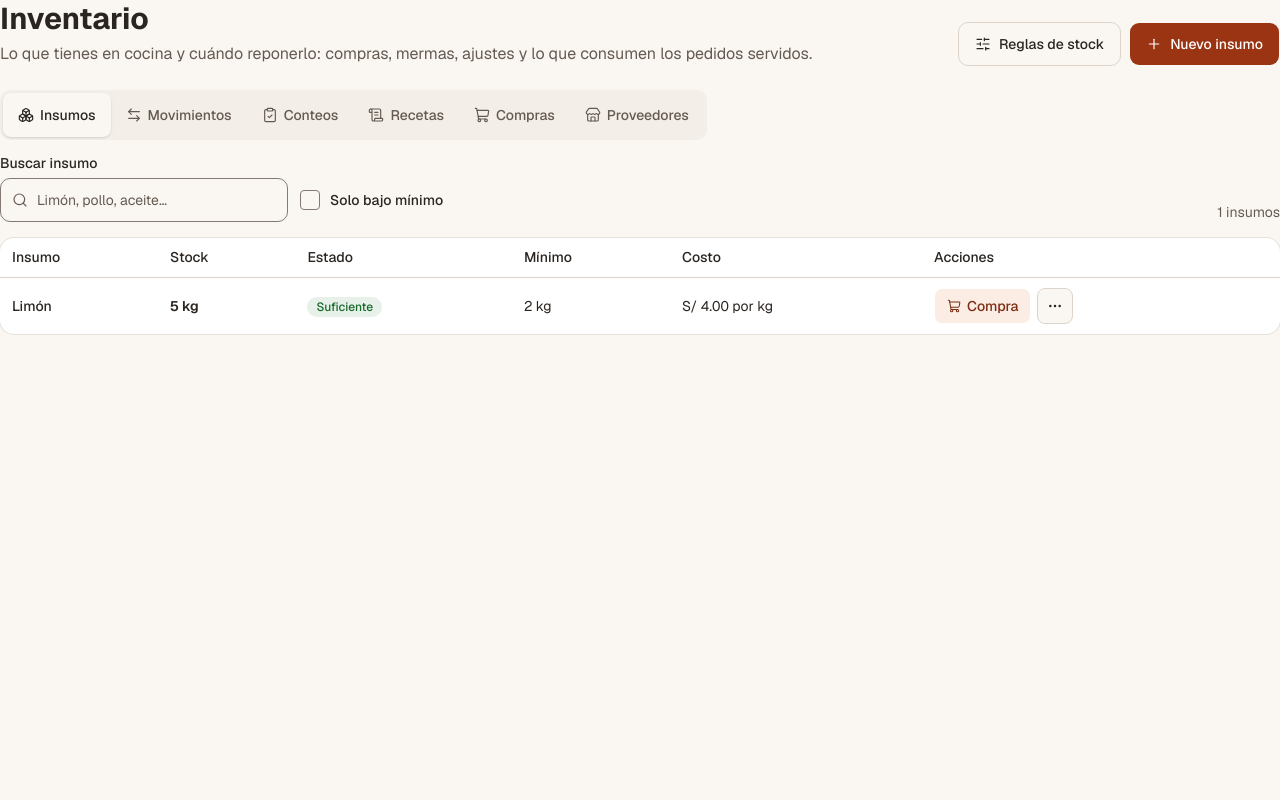
Test: compras, mermas y ajustes › una compra por kilo muestra el total, cómo queda el stock y lo envía en gramos
Click the button with aria-label "Compra de Limón".
click(983, 306)  # box [934,288,1031,324]
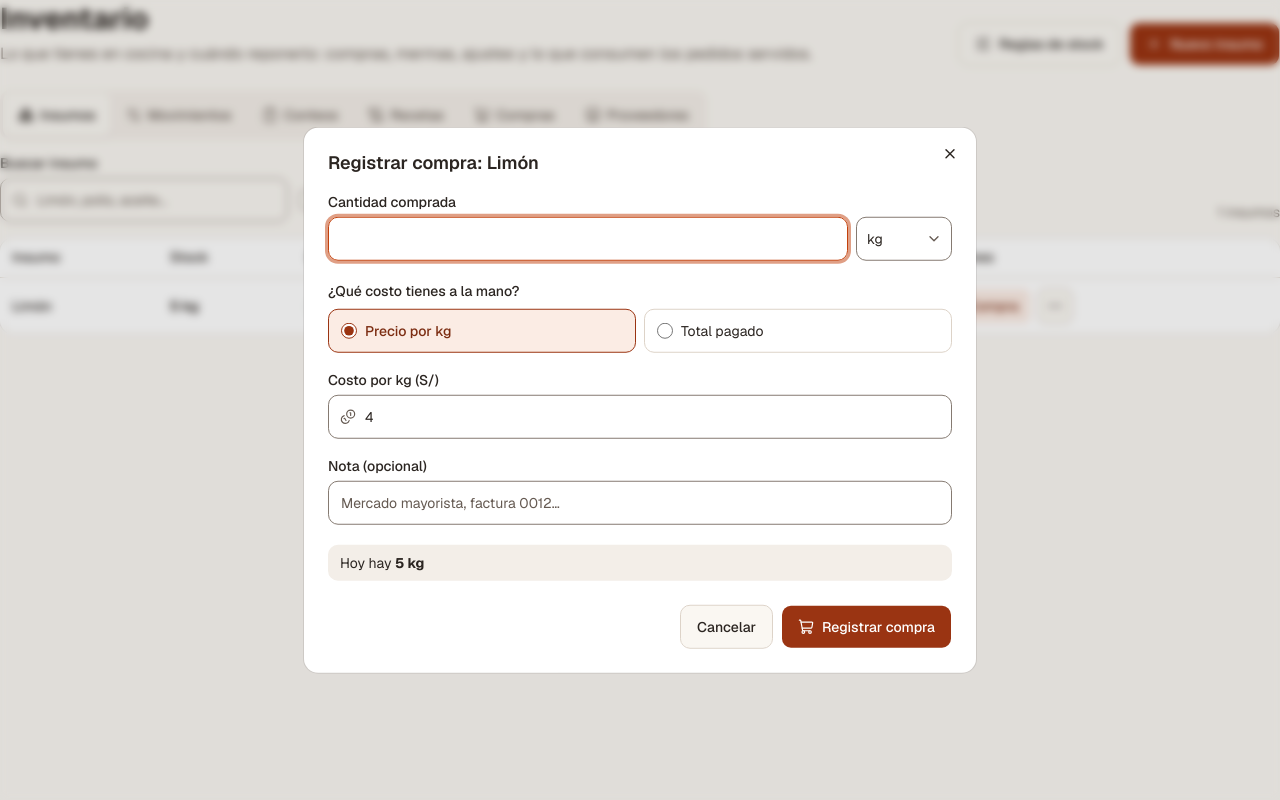
expect the field labelled "Costo por kg (S/)" holds "4": met, box [328,394,952,438]
Type "5" into the field labelled "Cantidad comprada".
click(588, 238); type("5")  # box [328,216,848,260]
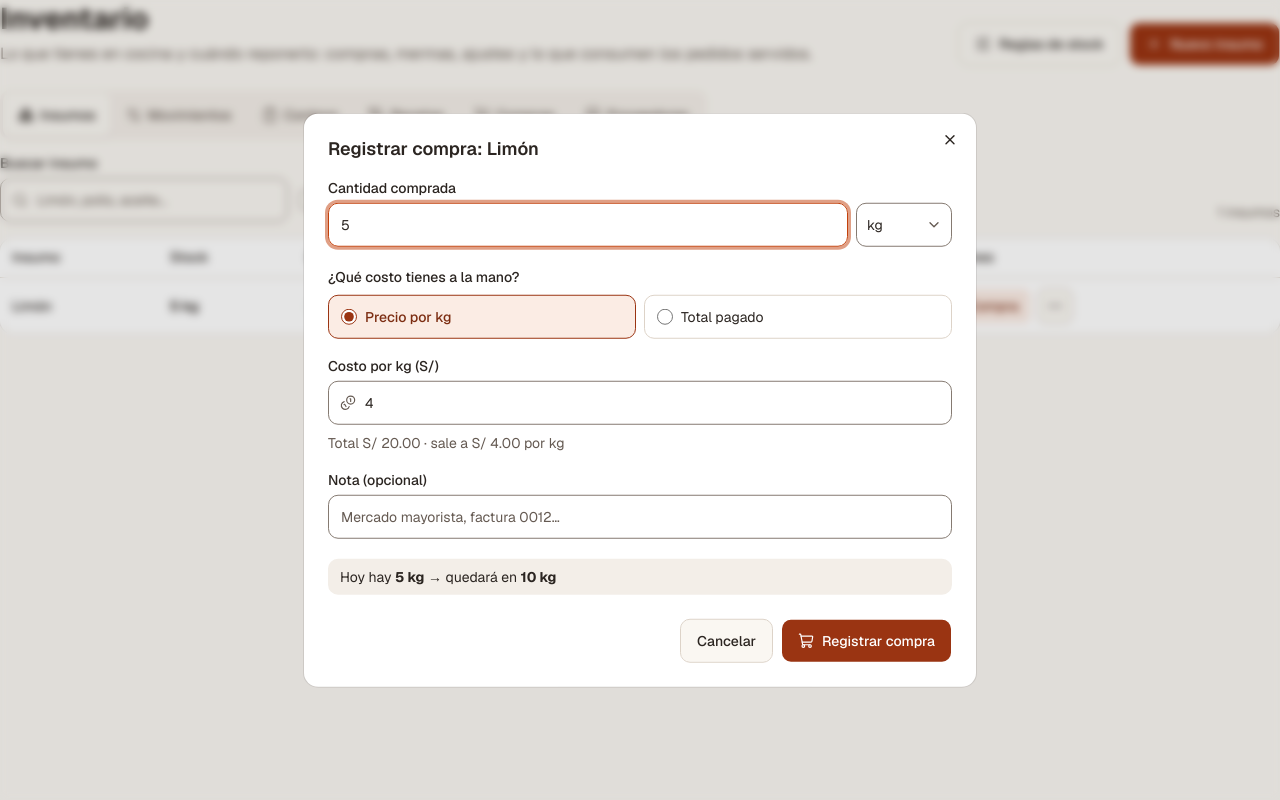
expect the text "Total S/ 20.00 · sale a S/ 4.00 por kg" is shown: met, box [328,433,565,451]
expect the element with test id "stock-preview" reads "Hoy hay 5 kg → quedará en 10 kg": met, box [328,558,952,594]
Click the button "Registrar compra".
click(866, 640)  # box [781,618,952,662]
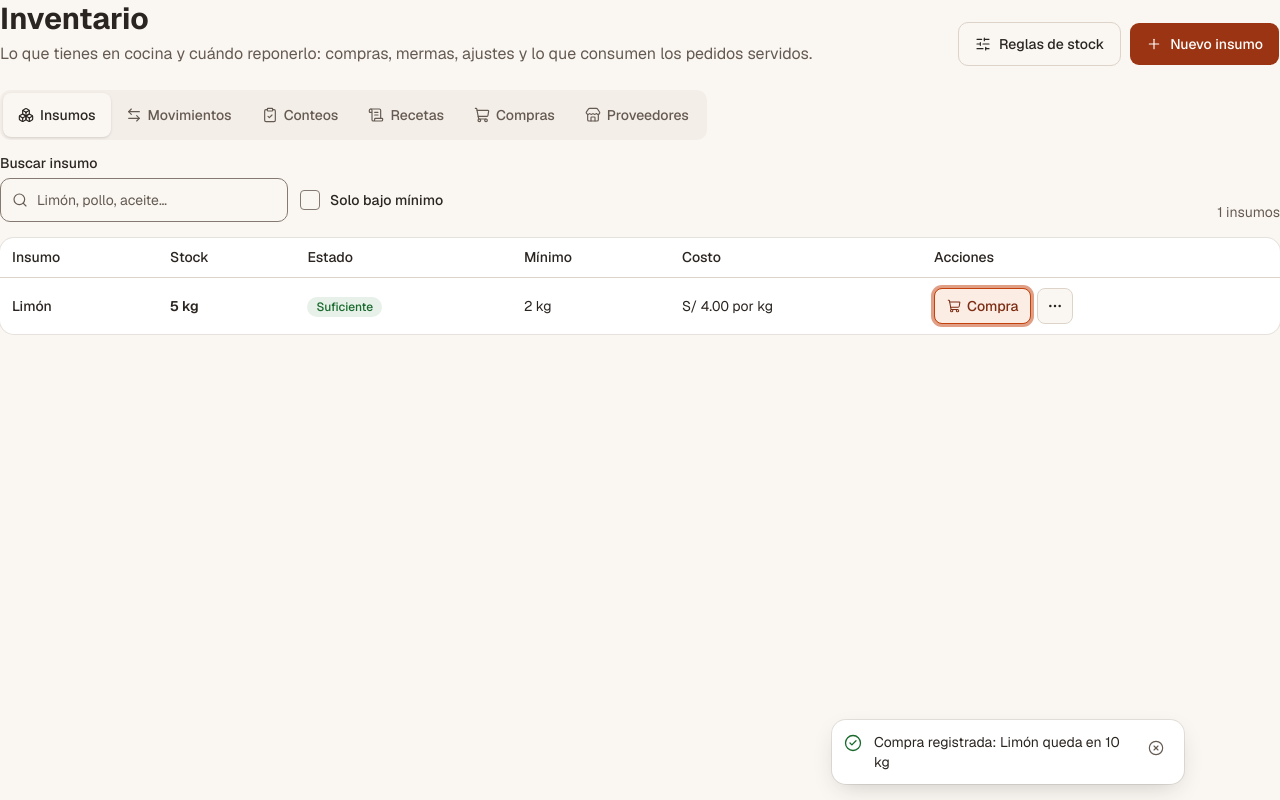
expect the text "Compra registrada: Limón queda en 10 kg" is shown: met, box [874,732,1128,772]
